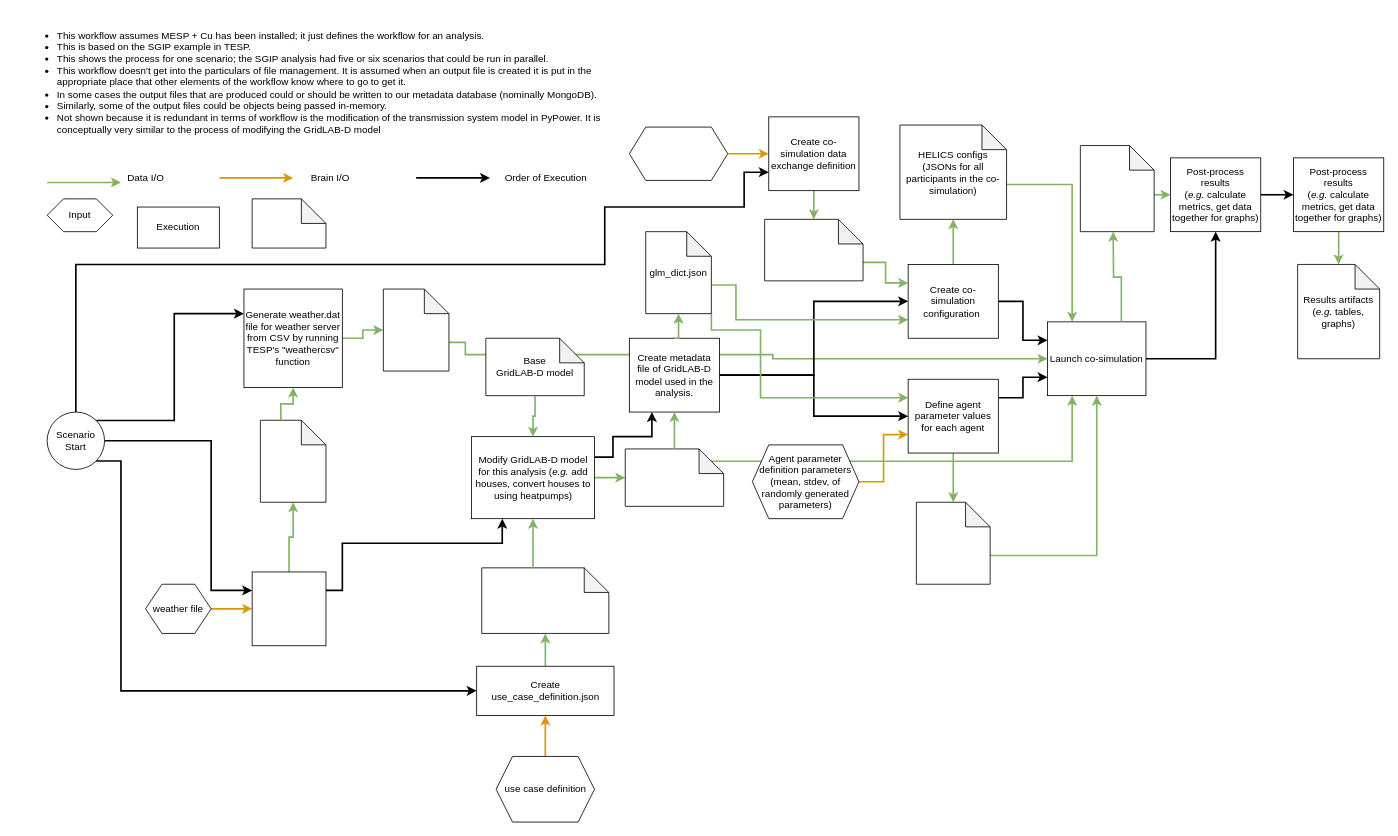
Image size: 1398x836. Some labels were removed from this diagram. The shapes that lost their labels are listed below. From the top down, each one's box as (x1, y1, x2, y2) in pixels, then its label:
(629, 126, 728, 180): Co-simulation data exchange definition
(1080, 145, 1154, 232): Time-series results from all simulators
(251, 198, 326, 248): File
(764, 219, 863, 281): Co-simulation data exchange defintion.netx
(383, 288, 449, 371): weather.dat
(260, 419, 326, 502): weather.tmy3
(624, 448, 724, 506): Modified GridLAB-D model
(916, 501, 990, 584): Agent configuration metadata.json
(251, 571, 326, 646): Download and/or select TMY3 weather file
(481, 567, 609, 633): use_case_definition.json
